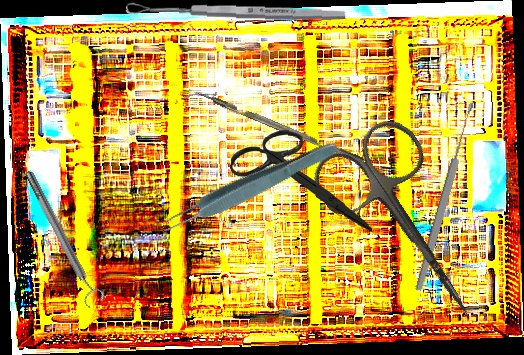Chopper: (182, 83, 366, 174)
Fixation Ring: (18, 165, 108, 311)
Iris Scissors: (304, 110, 514, 349), (228, 128, 376, 233)
Surgical Spoon: (413, 100, 478, 293), (125, 0, 347, 23)
Tissue Forceps: (154, 134, 342, 240)
